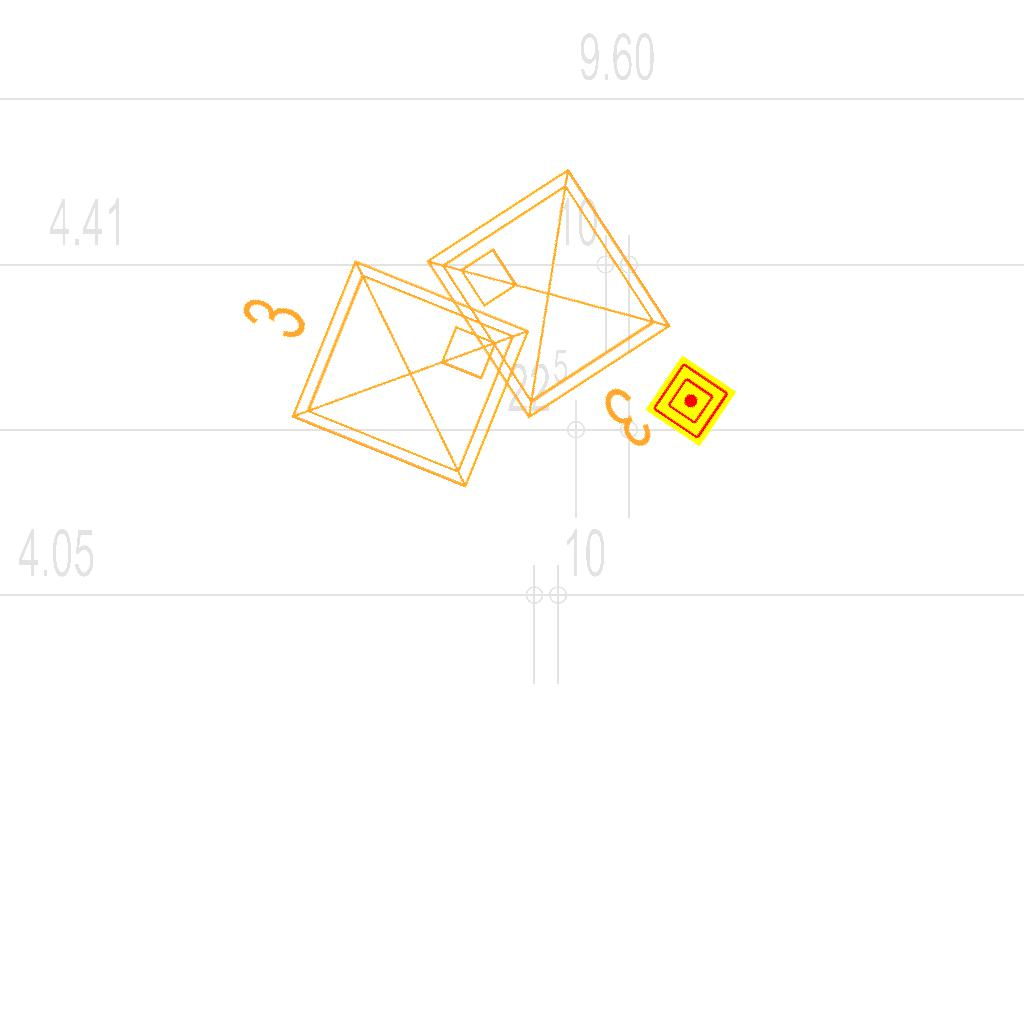Einbaudownlights_LED_Konferenzraeume: (405, 143, 743, 509), (192, 209, 550, 515)
NAM-Nichtautomatischer_Melder: (645, 355, 737, 447)
